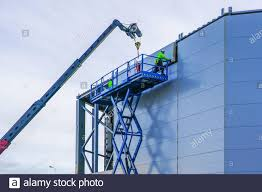Scissor Lift: (90, 53, 169, 178)
